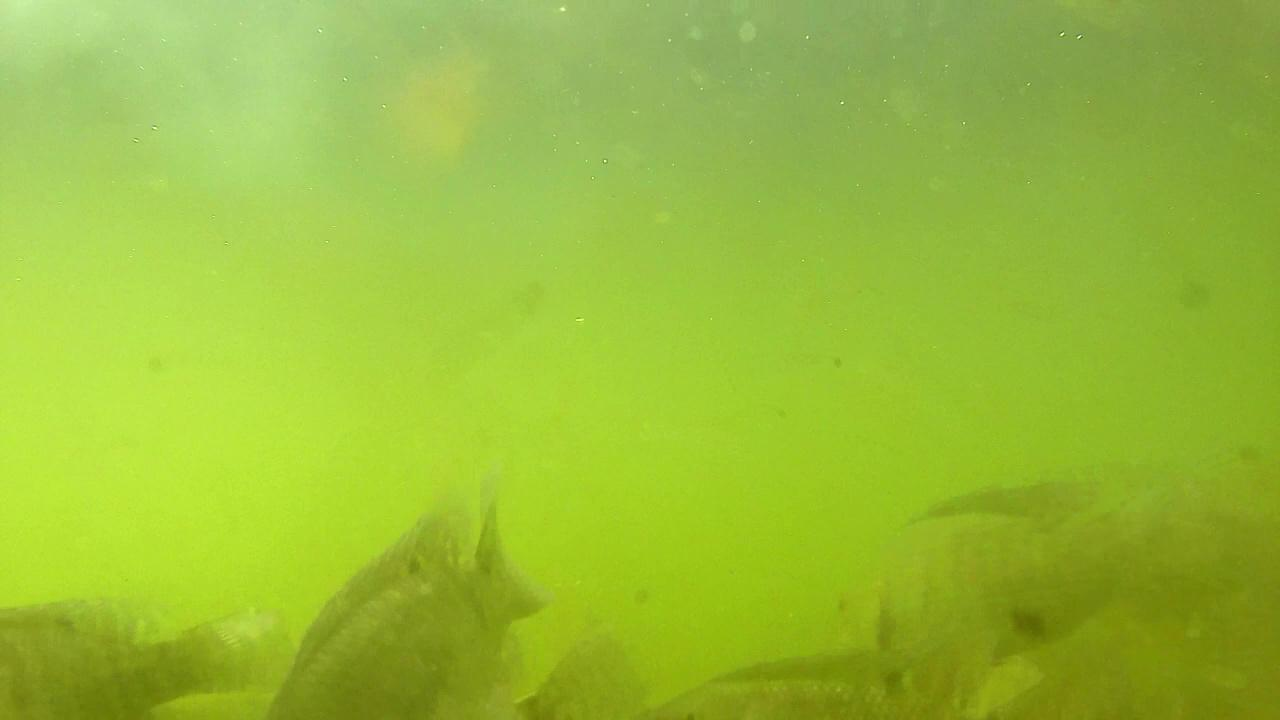Tilapia: (245, 454, 550, 720), (817, 462, 1128, 698), (3, 576, 294, 720)
